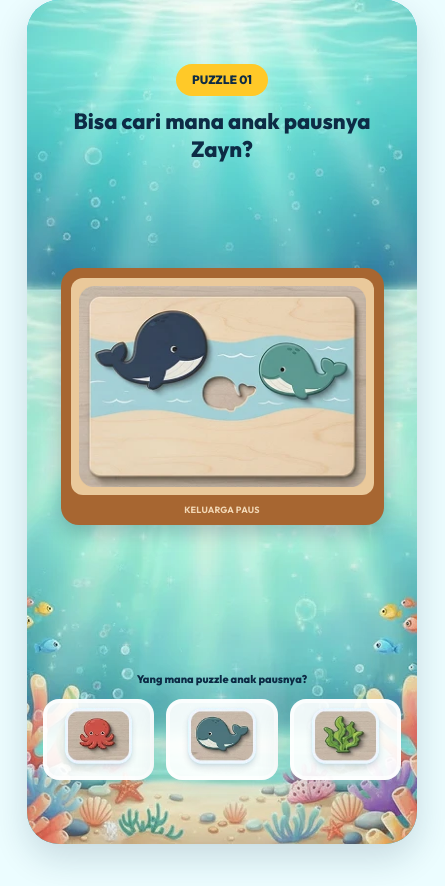
BeachPuzzleScreen › mengunci puzzle jika anak paus dipilih
Step 1. Click the button named "pilih anak paus" → (222, 740), box [166,699,278,780]
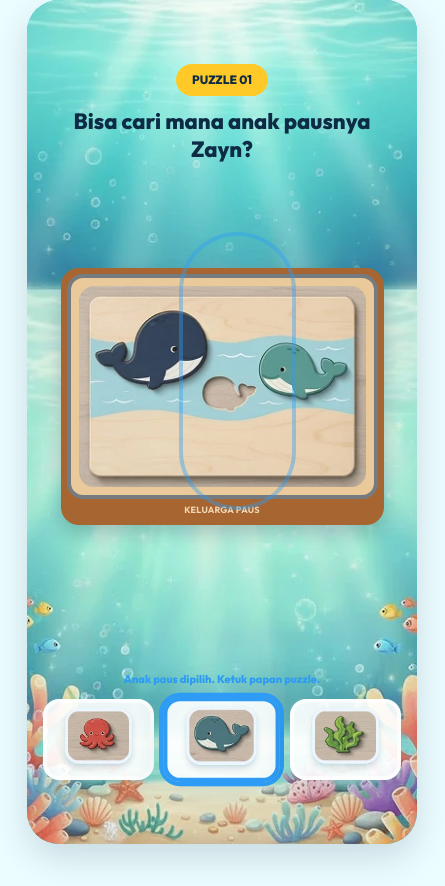
Step 2. Click the button named "pasang potongan ke papan puzzle" → (222, 387), box [70,278,374,495]
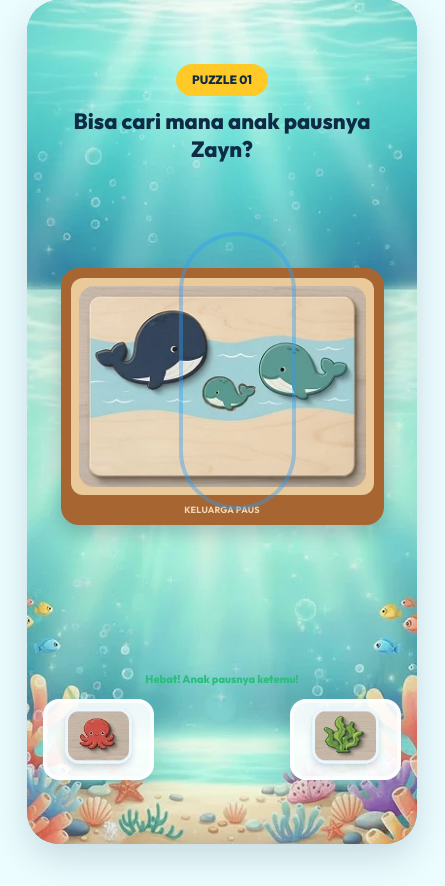
Expected: the message shows "Anak pausnya ketemu", [145,672,299,686]
Expected: the button named "pasang potongan ke papan puzzle" is disabled, [70,278,374,495]
Expected: the button named "papan puzzle keluarga paus lengkap" is disabled, [70,278,374,495]
